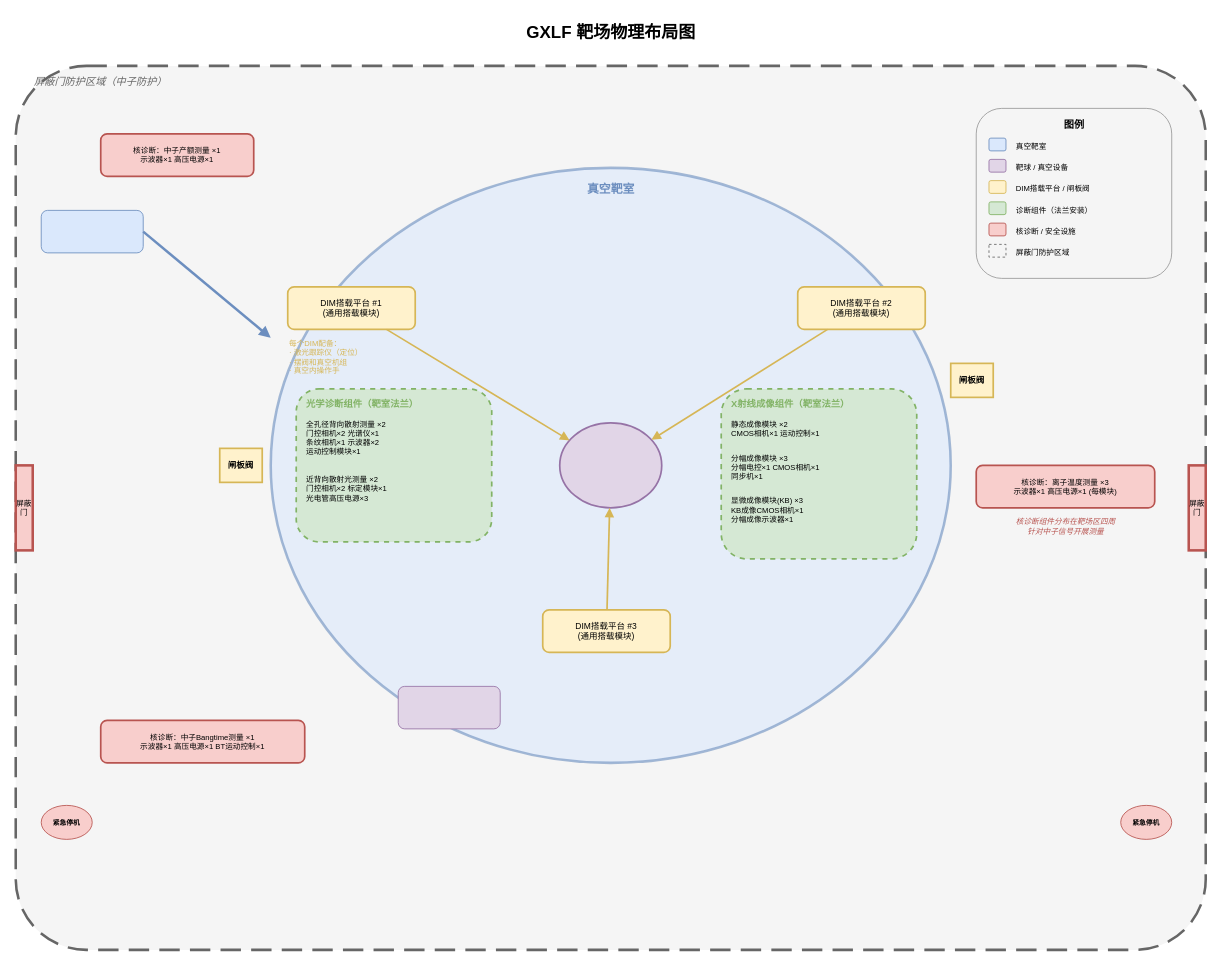
Image size: 1221x966. Some labels were removed from this diagram. The centre of each missing label's shape, as x and y in pixels:
激光束入射 (61束): point (91, 231)
真空机组 (维持高真空): point (448, 707)
靶球 (μm级靶丸): point (610, 465)
